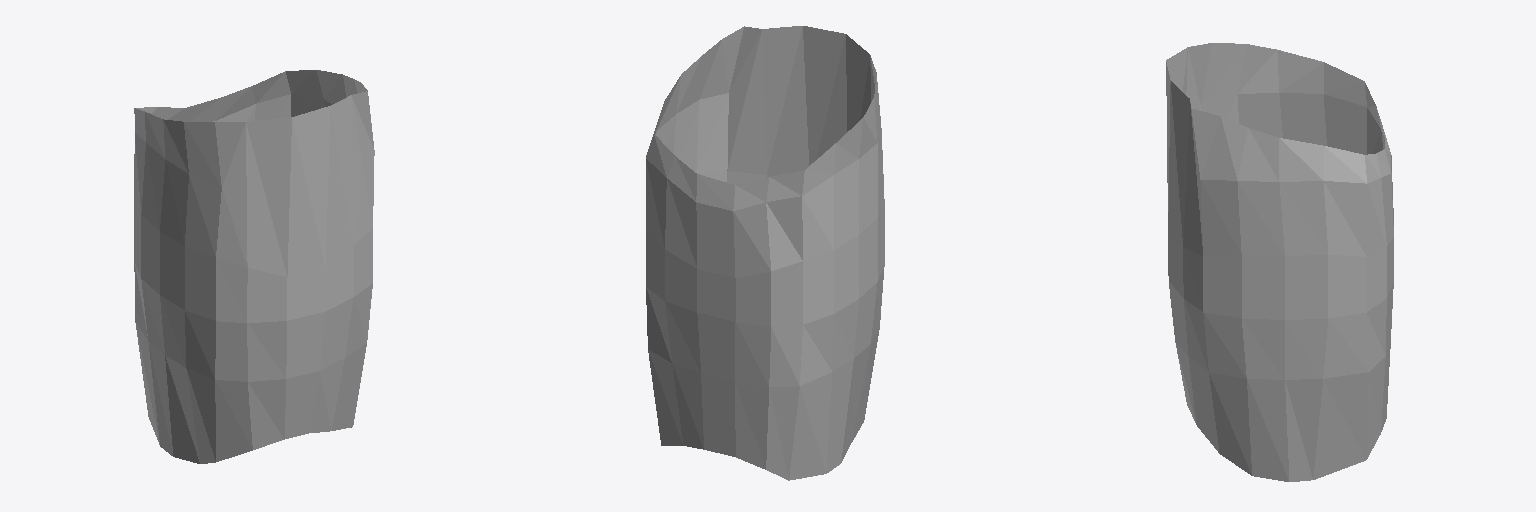
The model's file is leftLeg2Cover.obj.
The picture shows the model from 3 angles: view 1: azimuth 30°, elevation 25°; view 2: azimuth 150°, elevation 25°; view 3: azimuth 270°, elevation 25°; orthographic projection.
Parts seen in each view (by area): view 1: unnamed_object1; view 2: unnamed_object1; view 3: unnamed_object1.
Part boxes in pixels (x1,y1,x2,y2): unnamed_object1: (134, 70, 374, 463); unnamed_object1: (646, 26, 884, 480); unnamed_object1: (1166, 43, 1393, 481).
Size of the model in its own units: 12.17 by 22.94 by 12.76.